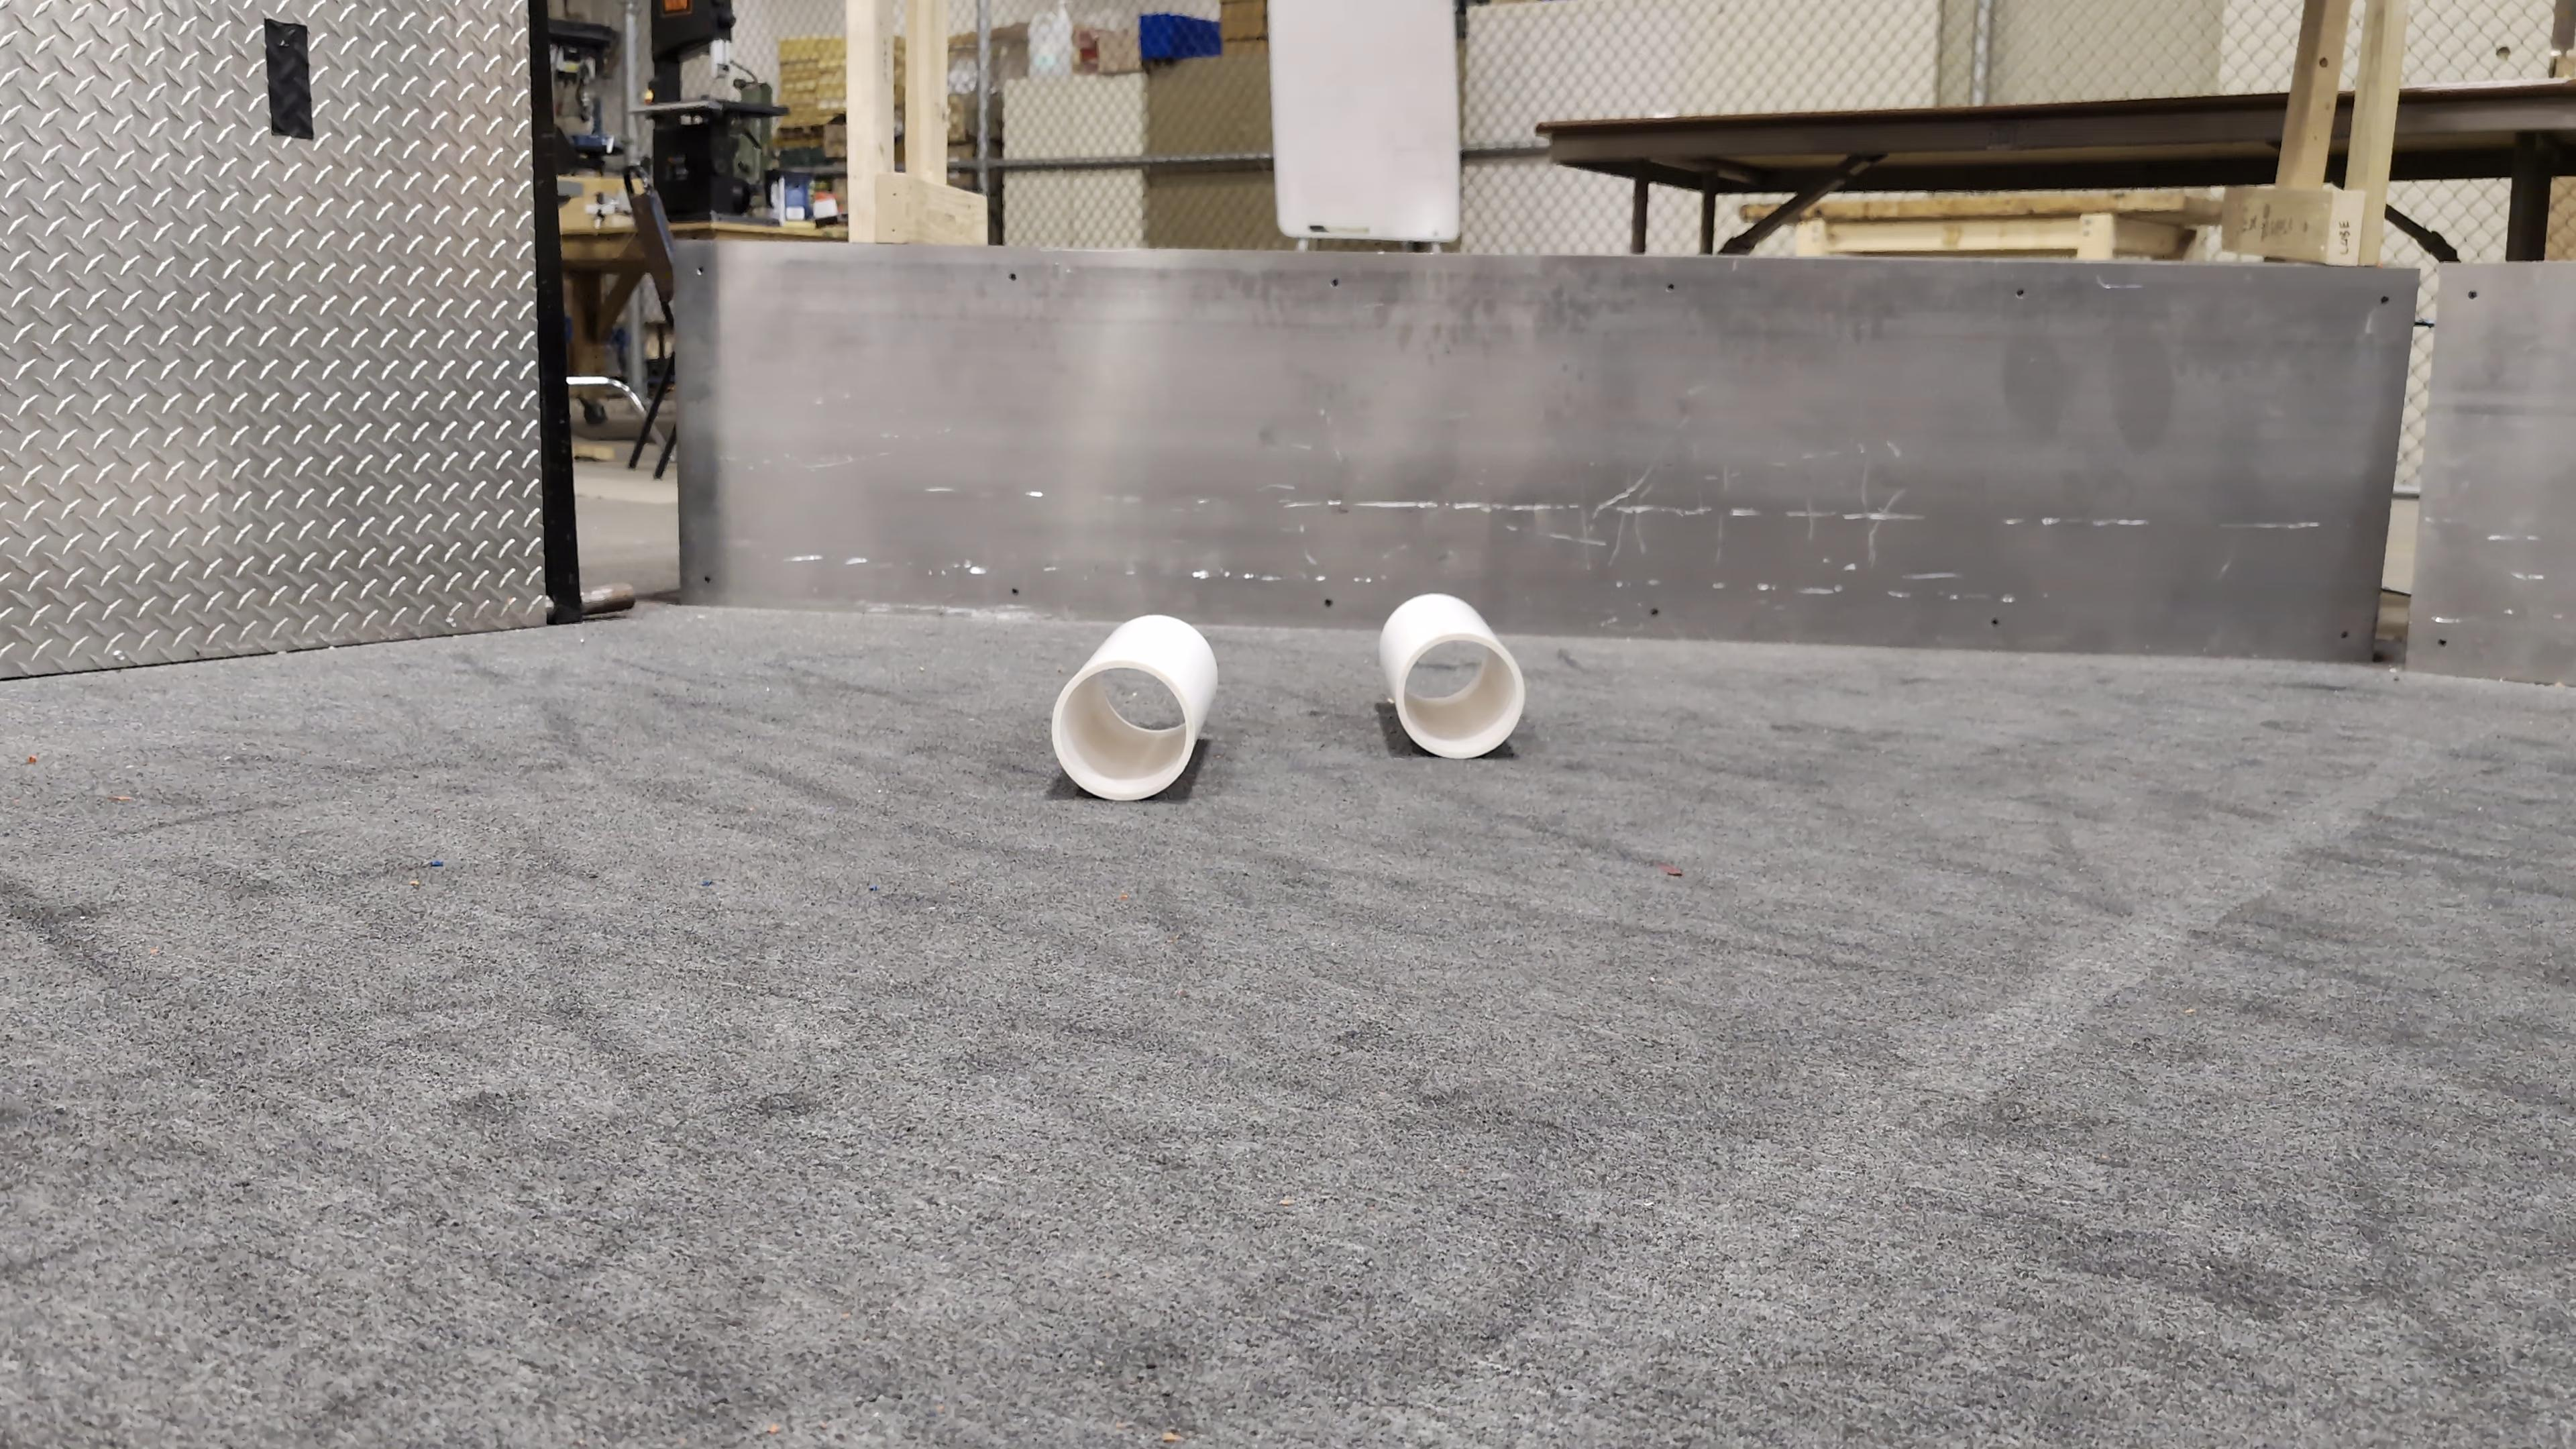coral: (1049, 610, 1219, 801), (1378, 586, 1527, 757)
